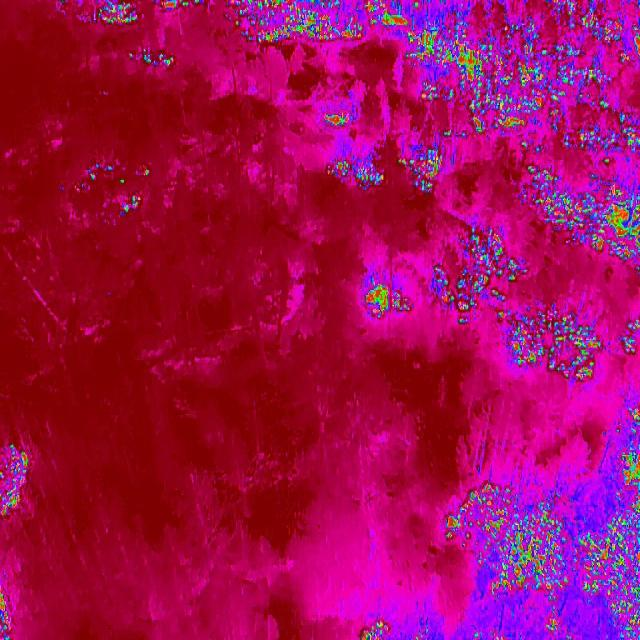fire: (449, 466, 640, 640), (403, 49, 640, 137), (233, 0, 640, 49), (428, 226, 528, 330), (511, 138, 640, 216), (503, 296, 602, 385), (545, 216, 640, 260), (0, 440, 34, 524), (398, 141, 448, 197), (48, 0, 144, 26), (356, 614, 451, 640), (318, 158, 384, 192), (360, 280, 410, 320), (610, 402, 640, 467), (316, 105, 366, 141), (130, 45, 178, 77), (0, 577, 14, 640), (615, 322, 640, 356)
